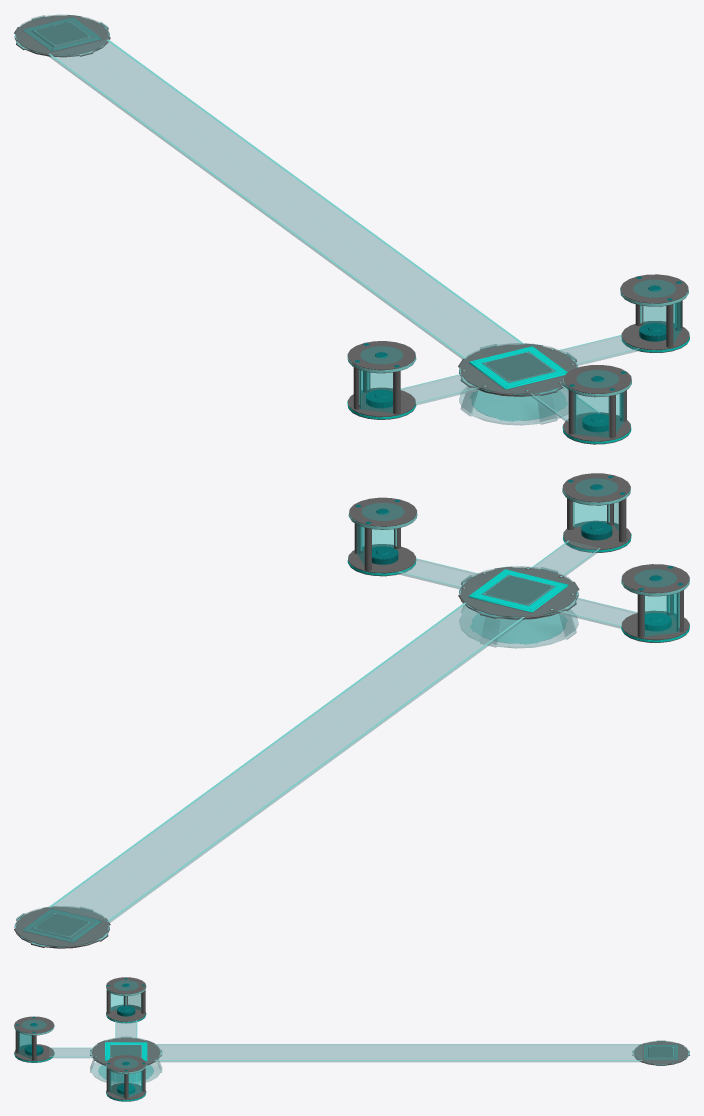
File: MAINMENU (2).fbx
3 renders of one model, top to bottom at view 1: azimuth 30°, elevation 25°; view 2: azimuth 150°, elevation 25°; view 3: azimuth 270°, elevation 25°, orthographic. The views are drawn at different scales.
Parts seen in each view (by area): view 1: pCube10, pCylinder60 (×2), pCylinder5, pCylinder51 (×2), pCylinder1, pCylinder25, pCylinder2, pCylinder6, pCube6, pCylinder34, pCylinder43, pCylinder26 (+10 smaller); view 2: pCube10, pCylinder5, pCylinder60 (×2), pCylinder1, pCylinder2, pCylinder25, pCylinder6, pCube6, pCylinder43, pCylinder26, pCylinder51 (×2), pCylinder34 (+10 smaller); view 3: pCube10, pCylinder51 (×2), pCylinder60 (×2), pCylinder25, pCylinder1, pCylinder2, pCylinder5, pCylinder43, pCylinder26, pCube6, pCube9, pCube14 (+10 smaller).
Boxes of the visible parts, box(x1,y1,x2,y2) form: pCube10: box(48, 39, 524, 358); pCylinder60 (×2): box(563, 274, 688, 397); pCylinder5: box(459, 386, 577, 425); pCylinder51 (×2): box(574, 300, 682, 438); pCylinder1: box(459, 343, 578, 394); pCylinder25: box(14, 14, 109, 55); pCylinder2: box(458, 343, 576, 395); pCylinder6: box(470, 389, 567, 421); pCube6: box(473, 348, 565, 388); pCylinder34: box(353, 367, 393, 412); pCylinder43: box(347, 341, 415, 373); pCylinder26: box(14, 15, 110, 56); pCube10: box(48, 602, 524, 922); pCylinder5: box(459, 605, 578, 648); pCylinder60 (×2): box(349, 473, 630, 529); pCylinder1: box(459, 566, 578, 617); pCylinder2: box(458, 566, 579, 618); pCylinder25: box(14, 906, 109, 946); pCylinder6: box(470, 612, 567, 644); pCube6: box(470, 571, 564, 611); pCylinder43: box(621, 564, 689, 596); pCylinder26: box(14, 906, 110, 947); pCylinder51 (×2): box(354, 502, 618, 565); pCylinder34: box(644, 590, 683, 636); pCube10: box(154, 1044, 642, 1062); pCylinder51 (×2): box(15, 1030, 142, 1098); pCylinder60 (×2): box(14, 1016, 146, 1073); pCylinder25: box(632, 1040, 689, 1064); pCylinder1: box(90, 1036, 161, 1063); pCylinder2: box(91, 1038, 160, 1064); pCylinder5: box(90, 1059, 162, 1083); pCylinder43: box(106, 977, 145, 996); pCylinder26: box(634, 1041, 688, 1064); pCube6: box(106, 1043, 145, 1059); pCube9: box(49, 1047, 92, 1058); pCube14: box(644, 1045, 677, 1059).
Size of the model in its own units: 52.24 by 11.93 by 156.
